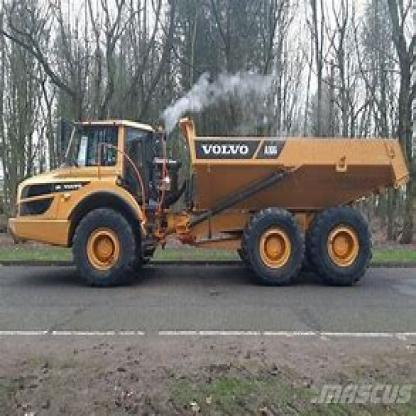dump_truck: (14, 102, 408, 288)
